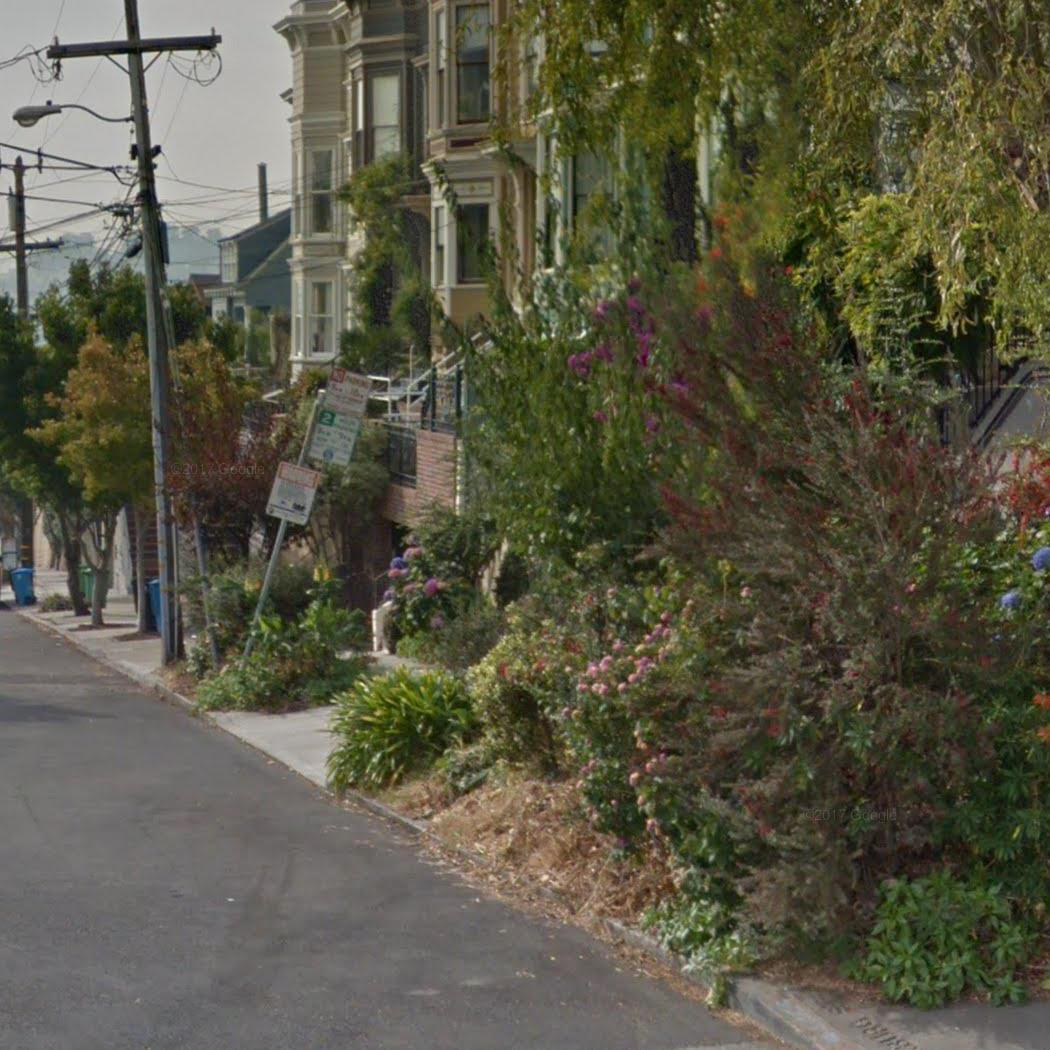2 Hour Parking: (303, 407, 363, 469)
No Parking: (321, 364, 376, 420)
